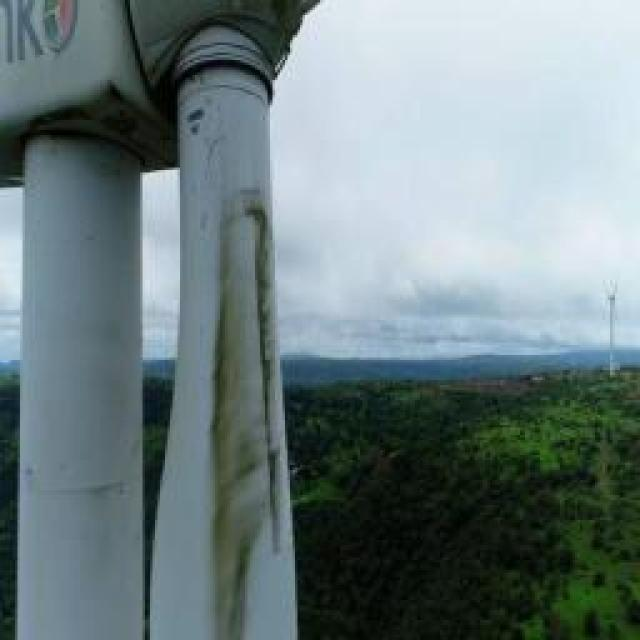Dirt: (208, 186, 292, 640)
